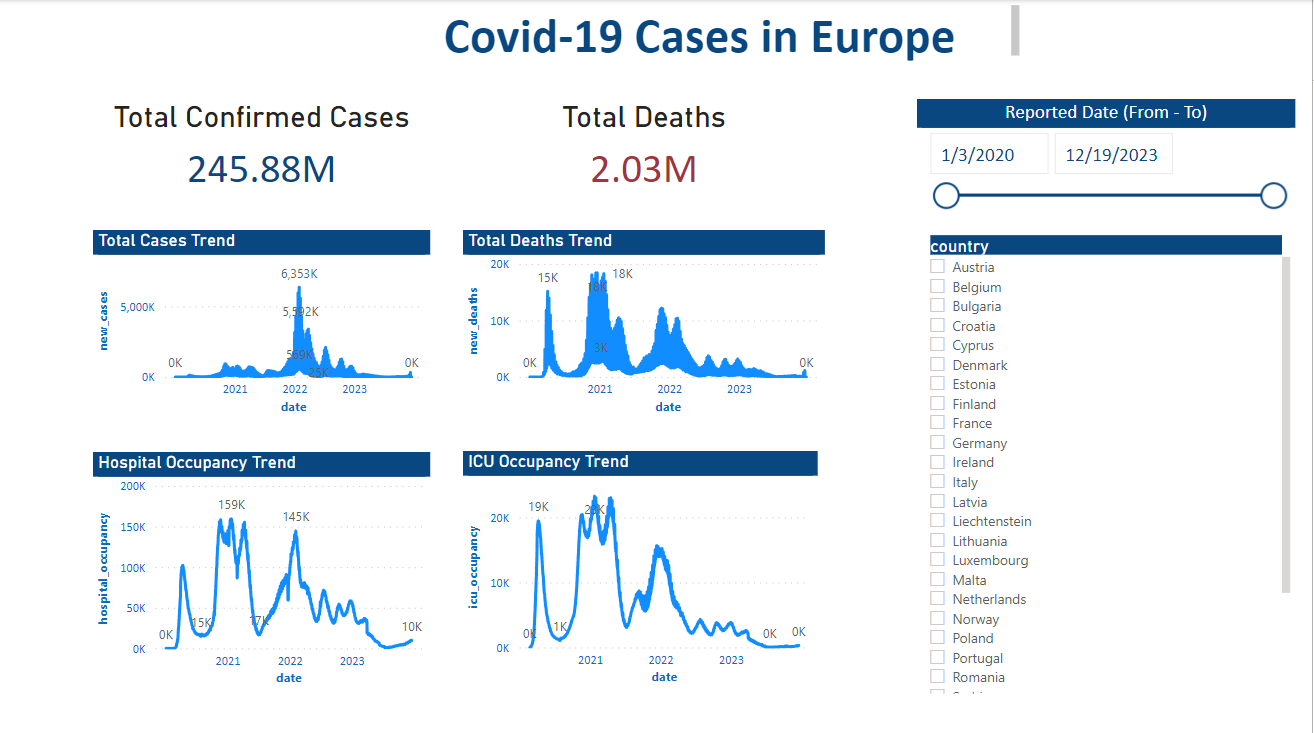

Layout of this report page (visuals, bound fields, positions):
{"tool":"powerbi","page":{"name":"Trends","canvas":[1280,720],"ordinal":0},"visuals":[{"type":"card","title":"Total Confirmed Cases","fields":{"Values":["Sum(covid_reporting cases_and_deaths.new_cases)"]},"box":[94.4,96,328,96],"z":0},{"type":"card","title":"Total Deaths","fields":{"Values":["Sum(covid_reporting cases_and_deaths.new_deaths)"]},"box":[454.4,96,352,96],"z":1000},{"type":"textbox","box":[376,0,624,64],"z":2000},{"type":"lineChart","title":"Total Cases Trend","fields":{"Category":["covid_reporting cases_and_deaths.date"],"Y":["Sum(covid_reporting cases_and_deaths.new_cases)"]},"box":[94.4,224,328,184],"z":3000},{"type":"lineChart","title":"Total Deaths Trend","fields":{"Category":["covid_reporting cases_and_deaths.date"],"Y":["Sum(covid_reporting cases_and_deaths.new_deaths)"]},"box":[454.4,224,352,184],"z":4000},{"type":"slicer","fields":{"Values":["covid_reporting hospital_admissions_daily.country"]},"box":[896,224,368,456],"z":5000},{"type":"lineChart","title":"Hospital Occupancy Trend","fields":{"Y":["Sum(covid_reporting hospital_admissions_daily.hospital_occupancy)"],"Category":["covid_reporting hospital_admissions_daily.date"]},"box":[94.4,440,328,232],"z":6000},{"type":"lineChart","title":"ICU Occupancy Trend","fields":{"Category":["covid_reporting hospital_admissions_daily.date"],"Y":["Sum(covid_reporting hospital_admissions_daily.icu_occupancy)"]},"box":[454.1,439.1,344.6,232.1],"z":7000},{"type":"slicer","title":"Reported Date (From - To)","fields":{"Values":["covid_reporting cases_and_deaths.date"]},"box":[896,96,368,112],"z":8001}]}

Visuals, with their boxes in screenshot pixels (x1, y1, x2, y2), scaled from the page's 1280x720 canvas onto the 1314x733 screenshot:
"Total Confirmed Cases" card: {"left": 97, "top": 98, "right": 434, "bottom": 195}
"Total Deaths" card: {"left": 466, "top": 98, "right": 828, "bottom": 195}
textbox: {"left": 386, "top": 0, "right": 1027, "bottom": 65}
"Total Cases Trend" lineChart: {"left": 97, "top": 228, "right": 434, "bottom": 415}
"Total Deaths Trend" lineChart: {"left": 466, "top": 228, "right": 828, "bottom": 415}
slicer - covid_reporting hospital_admissions_daily.country: {"left": 920, "top": 228, "right": 1298, "bottom": 692}
"Hospital Occupancy Trend" lineChart: {"left": 97, "top": 448, "right": 434, "bottom": 684}
"ICU Occupancy Trend" lineChart: {"left": 466, "top": 447, "right": 820, "bottom": 683}
"Reported Date (From - To)" slicer: {"left": 920, "top": 98, "right": 1298, "bottom": 212}
